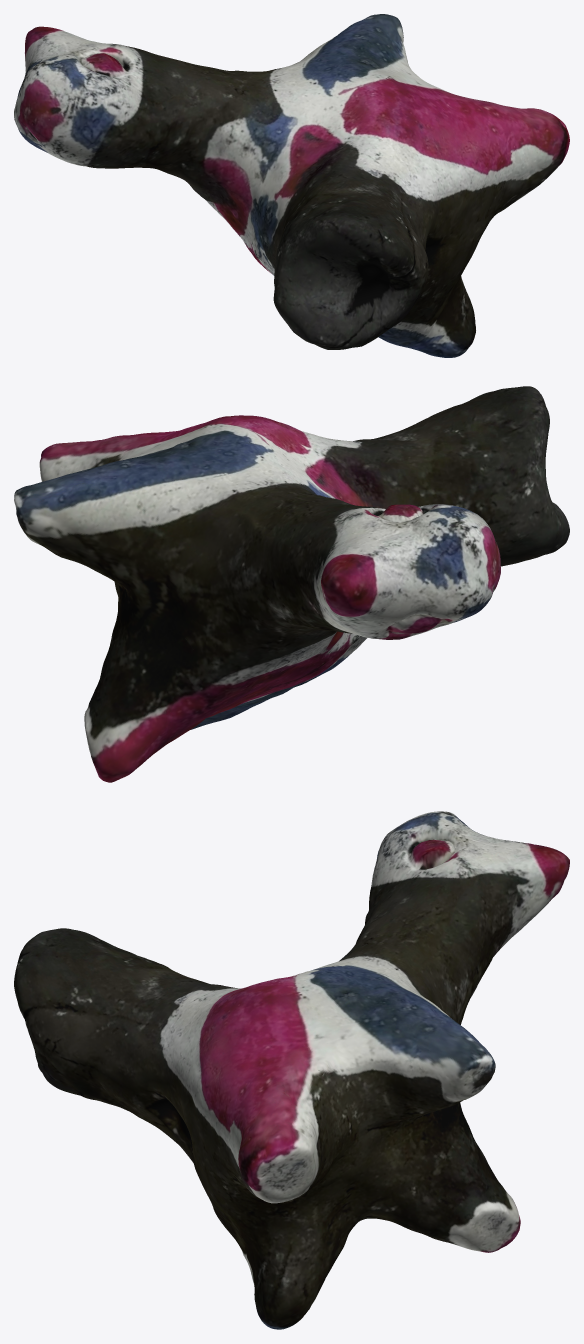
3 renders of one model, top to bottom at view 1: azimuth 30°, elevation 25°; view 2: azimuth 150°, elevation 25°; view 3: azimuth 270°, elevation 25°, orthographic. The views are drawn at different scales.
Size of the model in its own units: 0.5237 by 0.3433 by 0.5033.
1 material, 1 textured.
